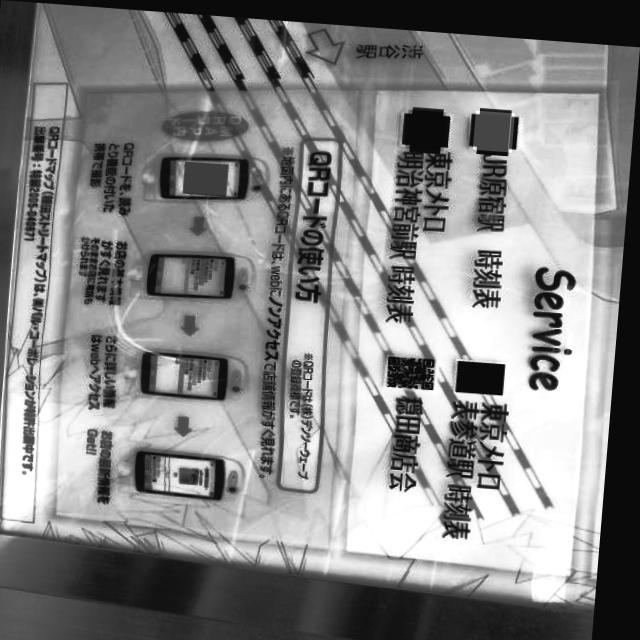qr_code: (391, 349, 441, 383), (406, 103, 447, 144), (474, 103, 515, 144), (461, 353, 509, 387), (186, 158, 230, 192)
